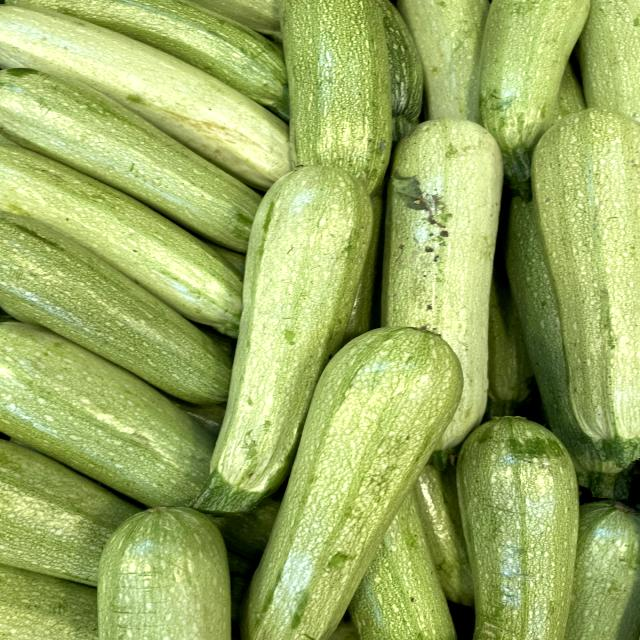zucchini: (238, 316, 486, 640), (172, 150, 380, 520)
